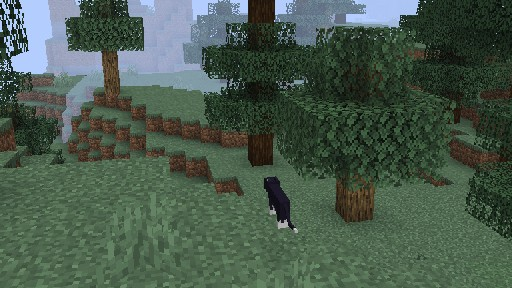cat: (263, 175, 297, 233)
